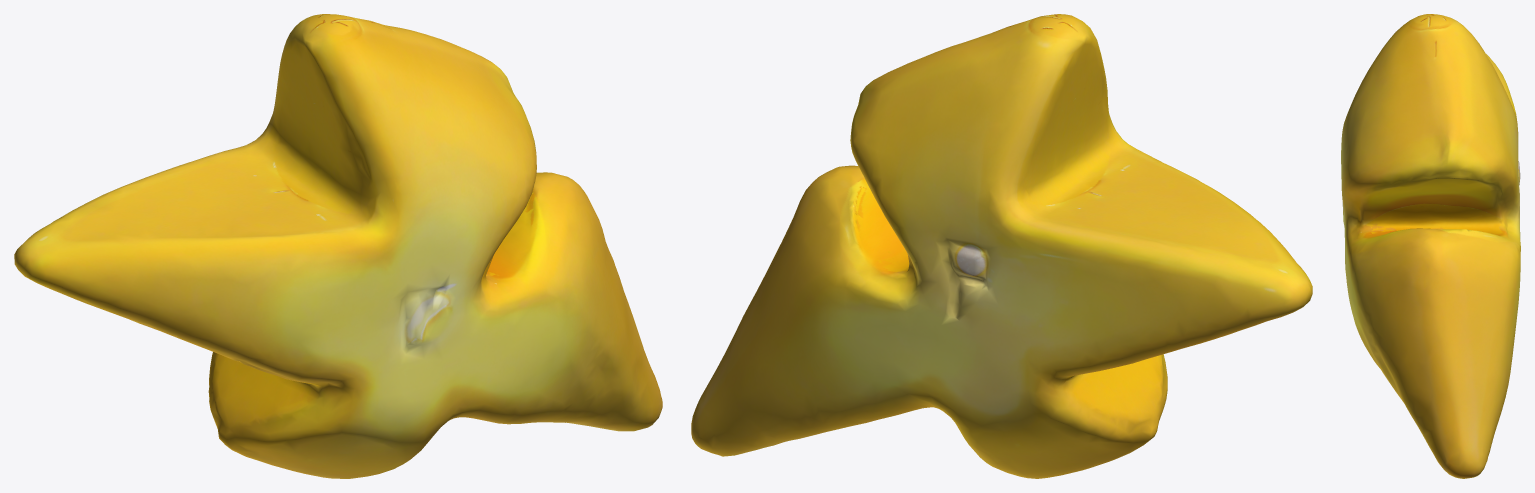
Rendered from lightning.glb.
3 renders of one model, left to right at view 1: azimuth 30°, elevation 25°; view 2: azimuth 150°, elevation 25°; view 3: azimuth 270°, elevation 25°, orthographic. The views are drawn at different scales.
Size of the model in its own units: 2.01 by 1.53 by 0.7109.
1 material, 1 textured.
